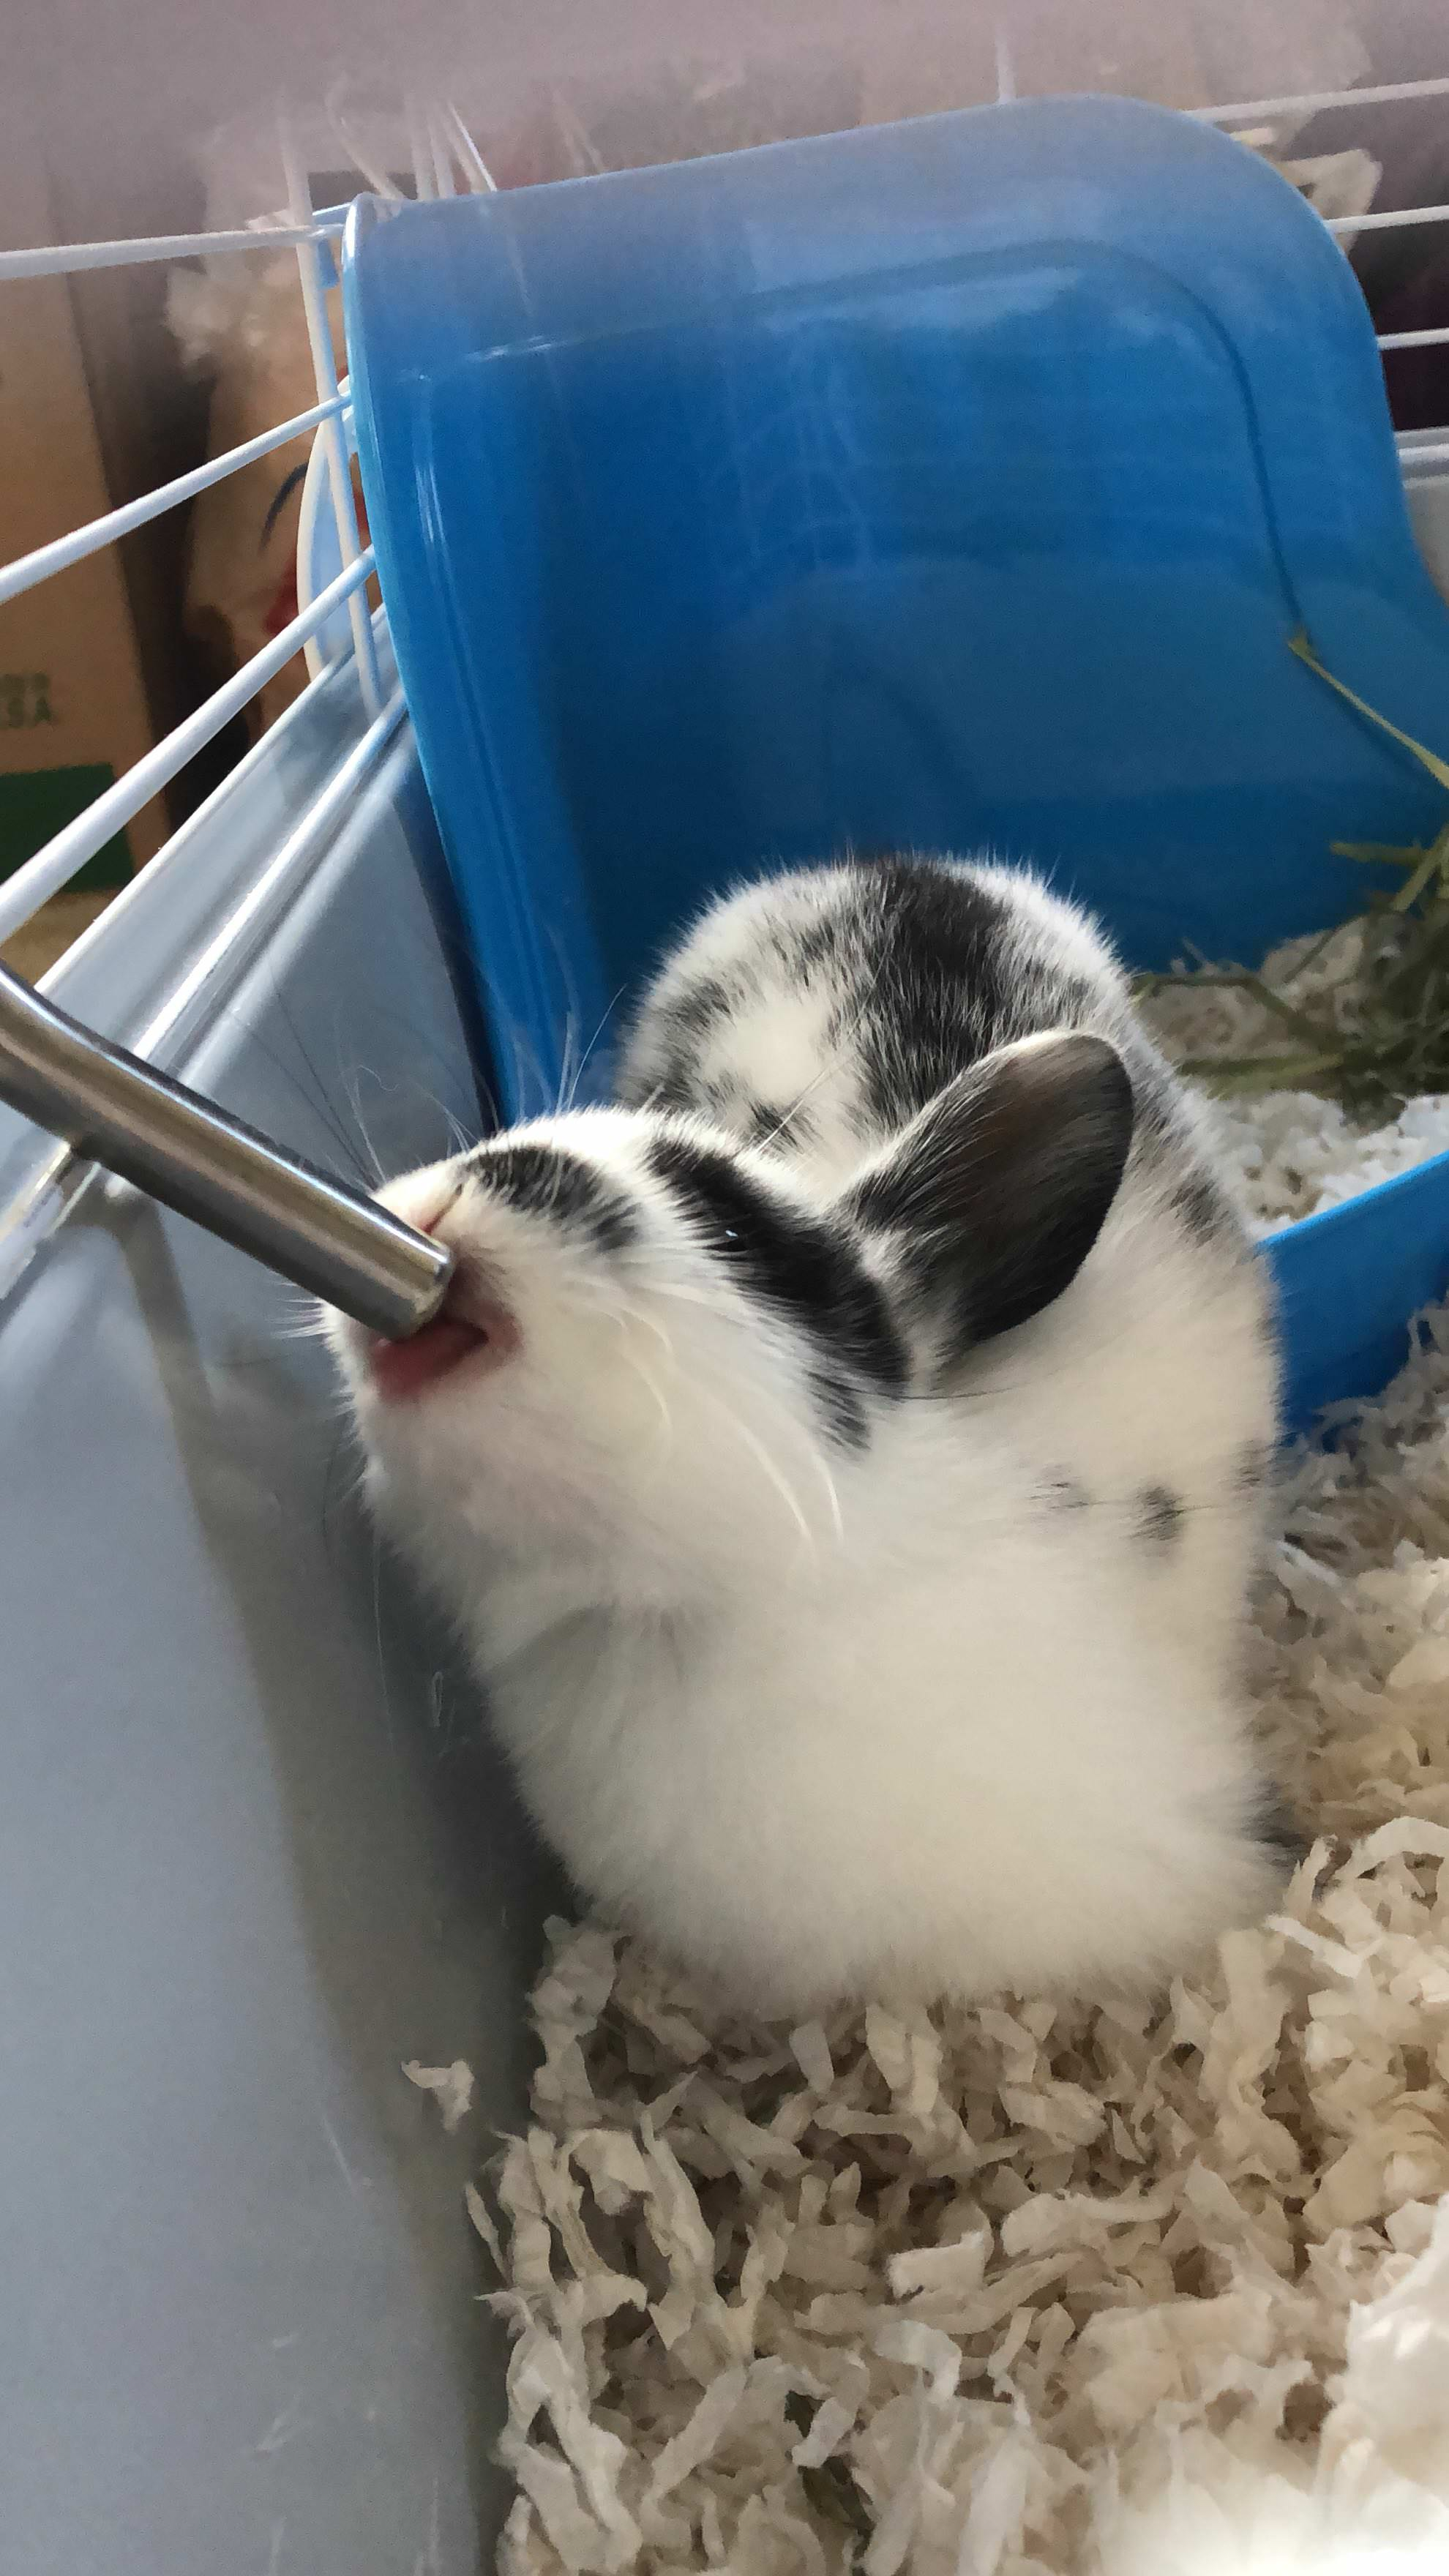bunny: (288, 826, 1368, 2077)
